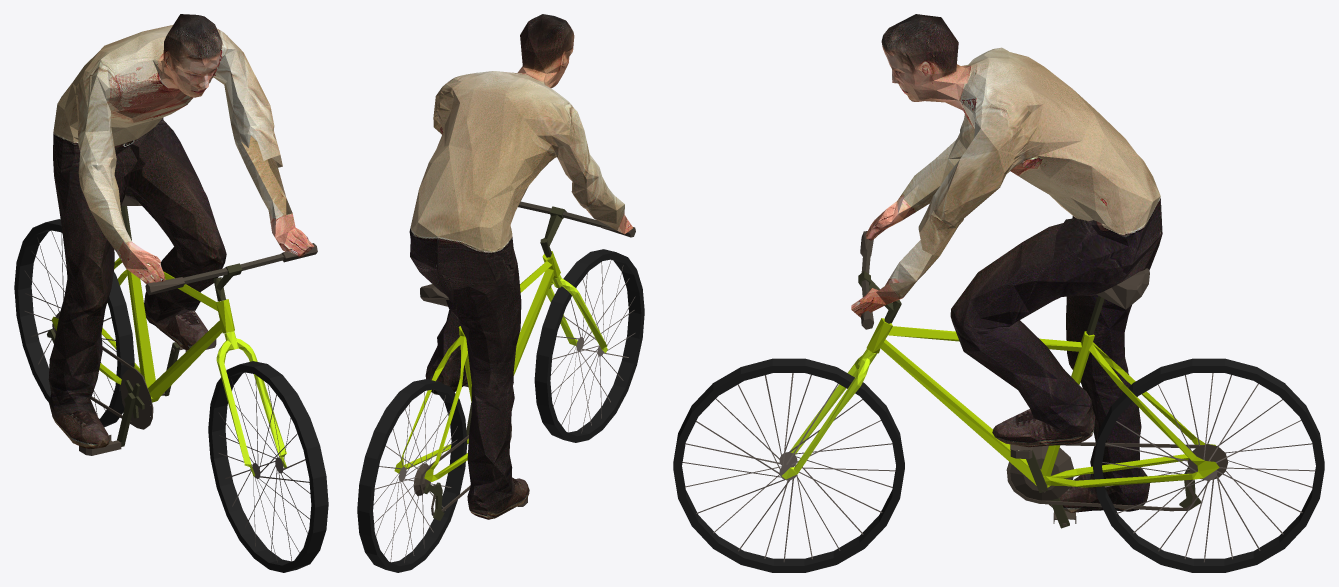
File: bicycle_male_1.obj
The picture shows the model from 3 angles, left to right: view 1: azimuth 30°, elevation 25°; view 2: azimuth 150°, elevation 25°; view 3: azimuth 270°, elevation 25°; orthographic projection. The views are drawn at different scales.
Visible parts, largest first — view 1: StaticModelFinal, TIRE1, TREK_CUADRO1, SPOKES1, TREK_SILLIN1, TREK_HORQUILLA1, TREK_CROMO1, TREK_NEGRO_BRILL1; view 2: StaticModelFinal, TIRE1, TREK_CUADRO1, SPOKES1, TREK_SILLIN1, TREK_HORQUILLA1, TREK_CROMO1, TREK_NEGRO_BRILL1; view 3: StaticModelFinal, TIRE1, TREK_CUADRO1, SPOKES1, TREK_SILLIN1, TREK_HORQUILLA1, TREK_CROMO1.
Part boxes in pixels (box(x1,y1,x2,y2)): StaticModelFinal: box(48, 14, 314, 448); TIRE1: box(14, 219, 328, 572); TREK_CUADRO1: box(51, 257, 234, 402); SPOKES1: box(24, 230, 310, 562); TREK_SILLIN1: box(52, 195, 317, 455); TREK_HORQUILLA1: box(216, 331, 286, 476); TREK_CROMO1: box(47, 205, 242, 446); TREK_NEGRO_BRILL1: box(183, 253, 283, 284); StaticModelFinal: box(409, 14, 633, 519); TIRE1: box(357, 249, 644, 572); TREK_CUADRO1: box(394, 251, 560, 481); SPOKES1: box(373, 259, 635, 562); TREK_SILLIN1: box(413, 226, 635, 515); TREK_HORQUILLA1: box(546, 274, 607, 352); TREK_CROMO1: box(424, 206, 566, 520); TREK_NEGRO_BRILL1: box(518, 201, 612, 228); StaticModelFinal: box(851, 14, 1162, 512); TIRE1: box(673, 358, 1324, 572); TREK_CUADRO1: box(866, 318, 1219, 487); SPOKES1: box(682, 373, 1315, 562); TREK_SILLIN1: box(860, 231, 1228, 525); TREK_HORQUILLA1: box(782, 349, 877, 479); TREK_CROMO1: box(858, 271, 1201, 528).
Size of the model in its own units: 0.636 by 1.63 by 1.76.
